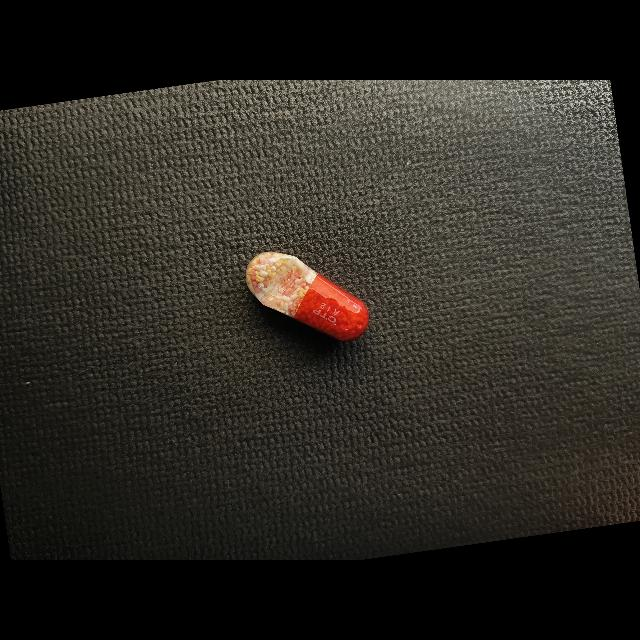Defective Capsule: (246, 252, 369, 341)
